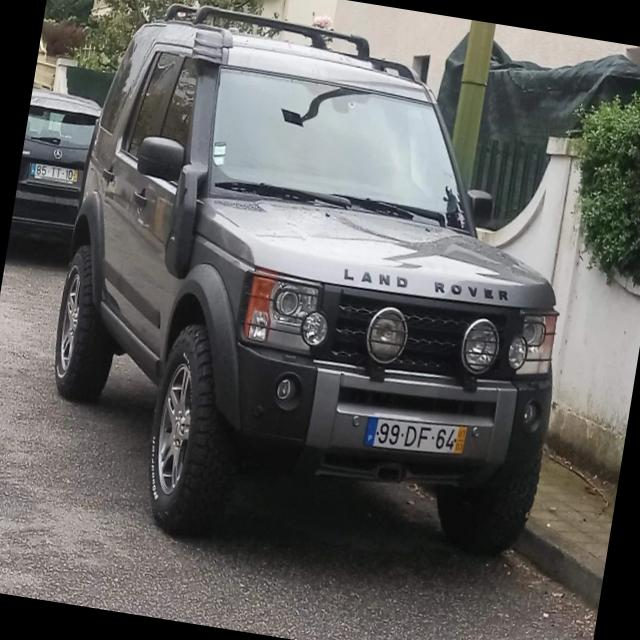portuguese-license-plates: (360, 413, 472, 459)
